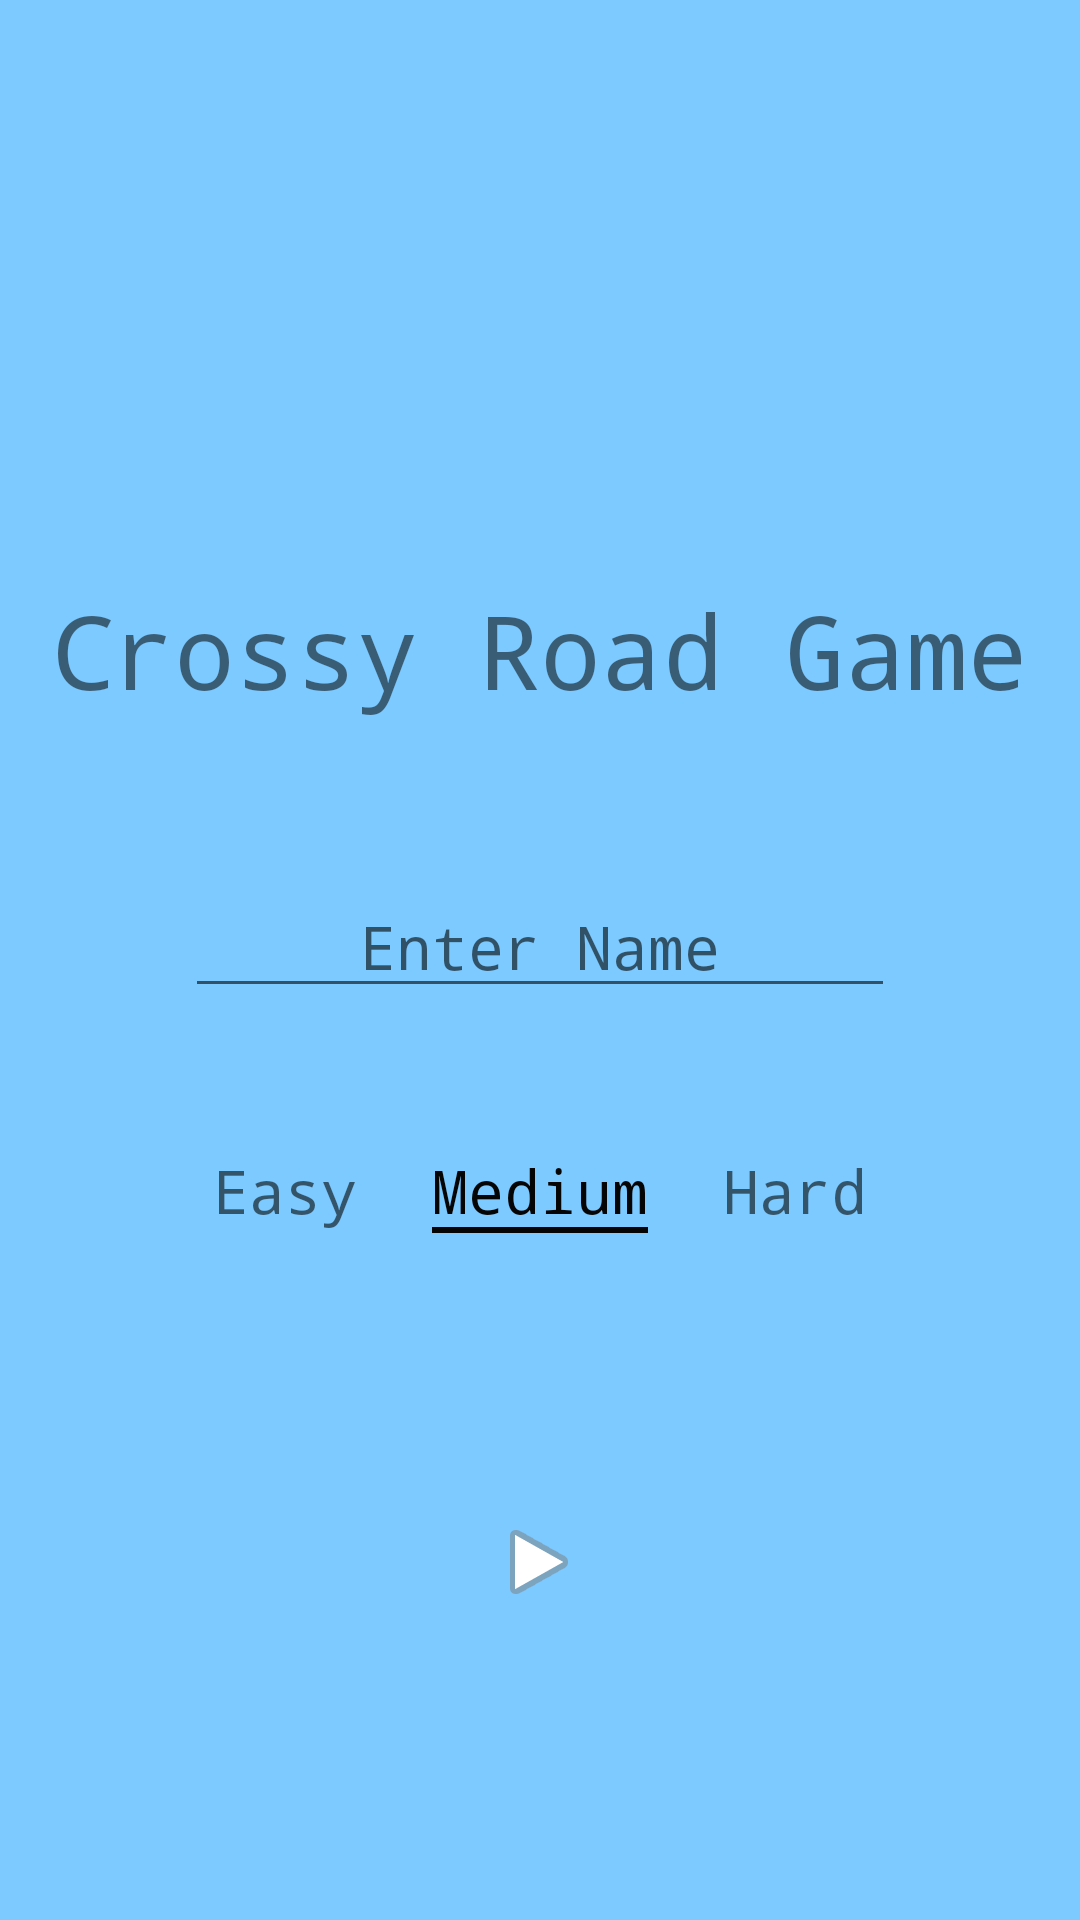

Icons on this 1080*1920 Android screen, each with the point to tap as (x,y):
Play Game Button: (539,1562)
